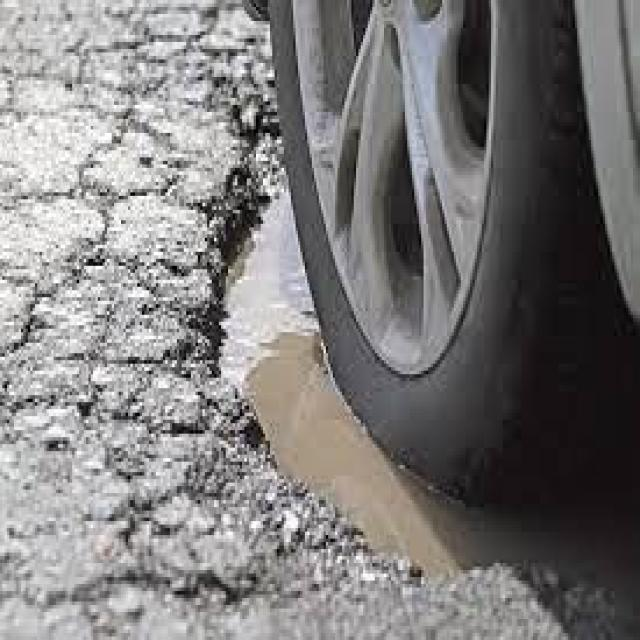Pothole: (228, 175, 607, 577)
